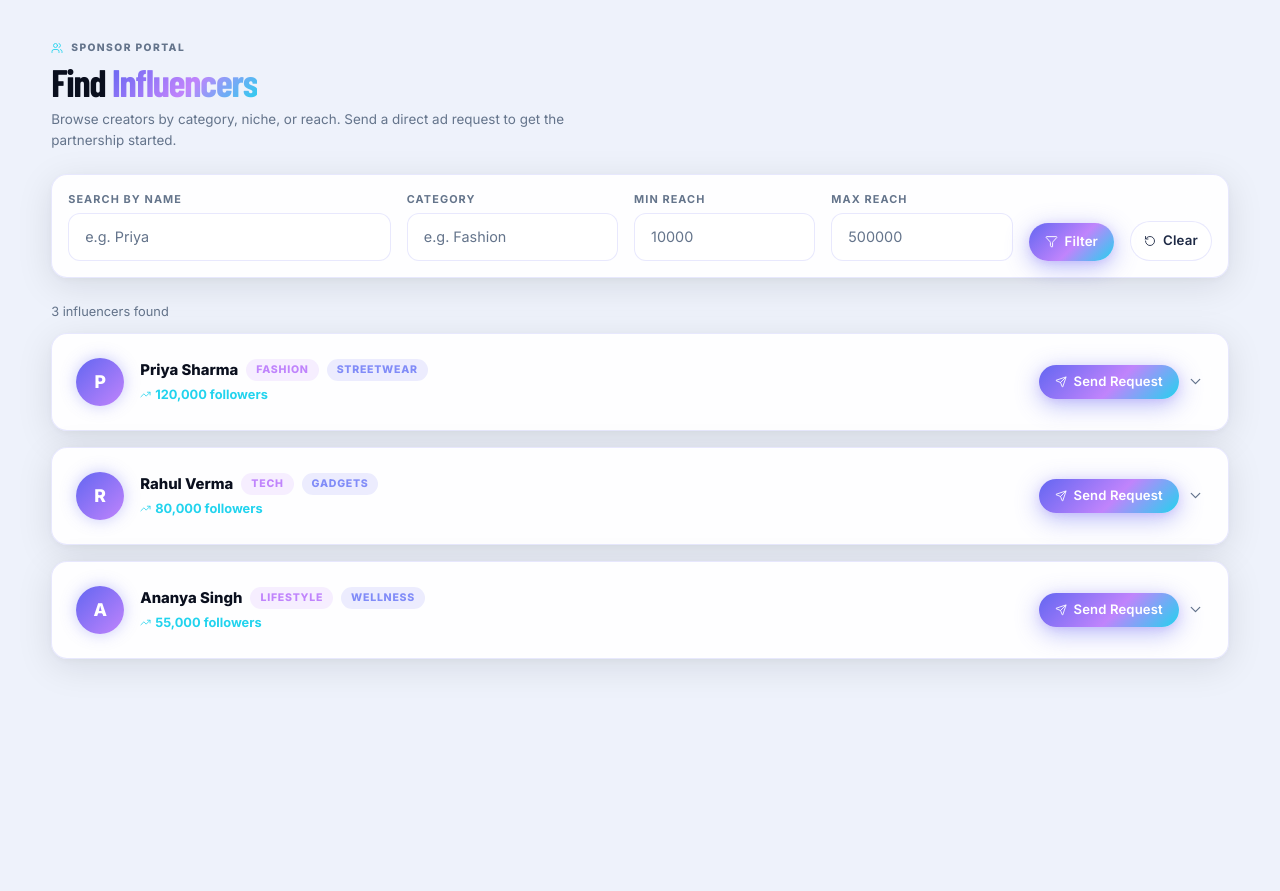
it: InfluencerDirectory › shows error when submitting without a message
expect the text "Priya Sharma" is shown: met, box [140, 359, 238, 381]
Click the button "Send Request" in the row of "Streetwear". click: (1109, 382)
box: [1038, 365, 1179, 399]
(page scrolled)
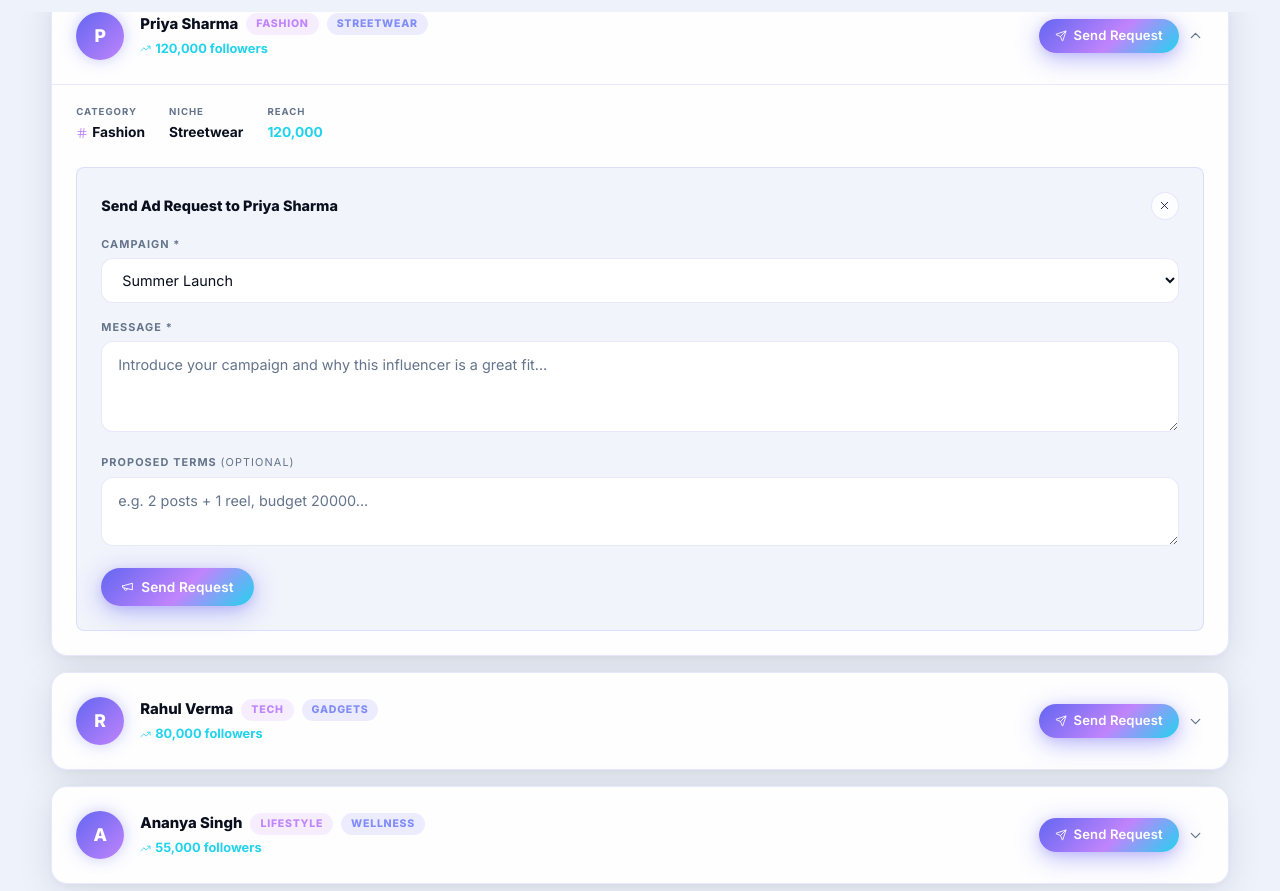
expect the text box with placeholder "Introduce your campaign" is shown: met, box [101, 342, 1179, 432]
The form submit is the brand button inside the request form container (has textarea sibling)
Click the button with class "is-btn-brand" below "Proposed Terms". click: (178, 587)
box: [101, 568, 254, 606]
(page scrolled)
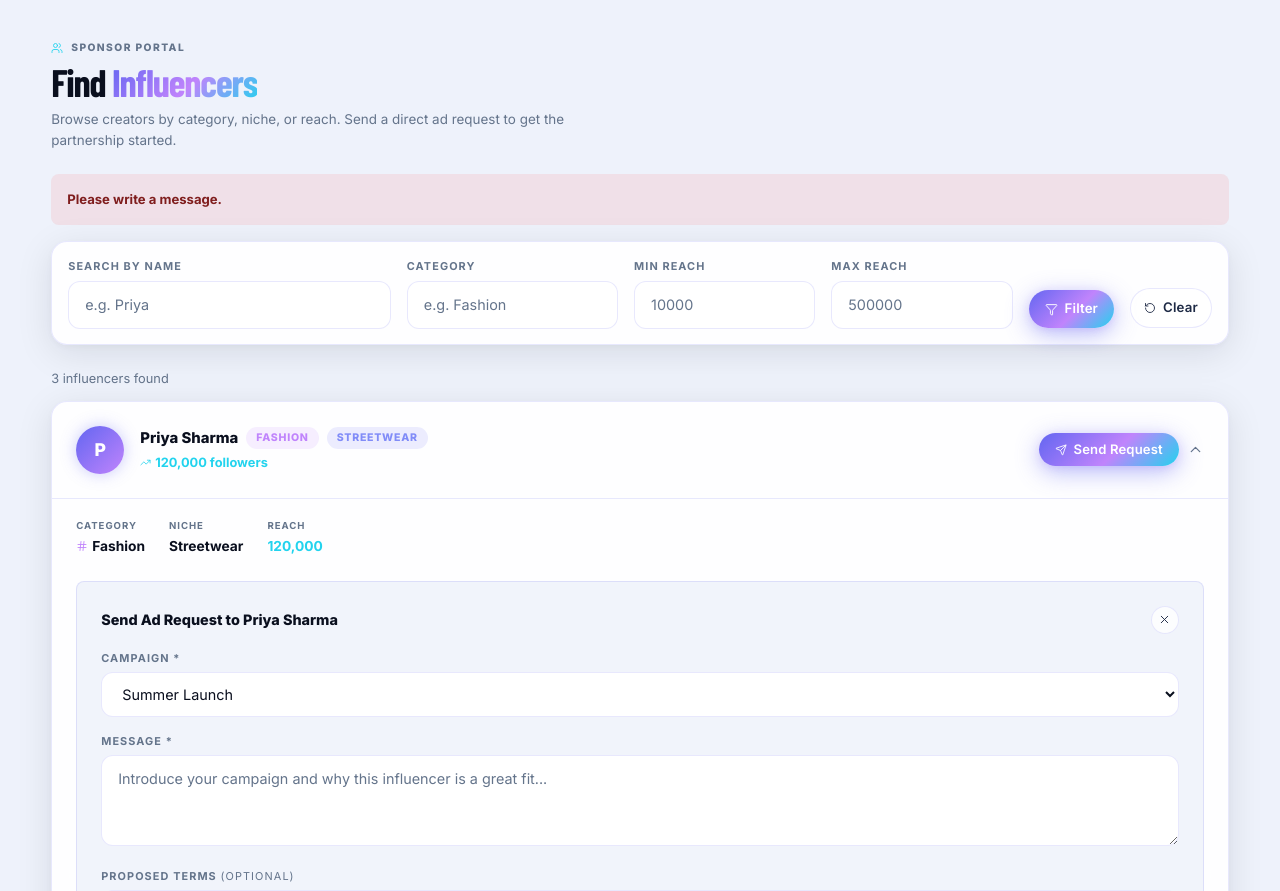
expect the text "Please write a message." is shown: met, box [51, 174, 1229, 225]
